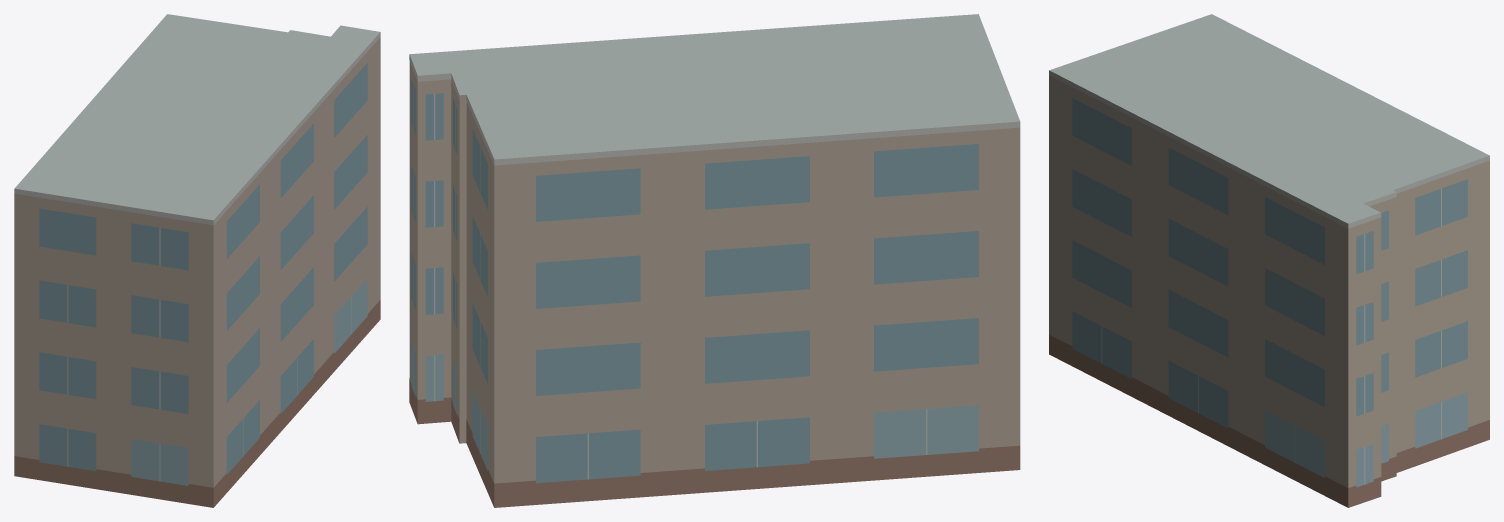
File: survey-upis-32746227.glb
3 views of the same model, side by side, from view 1: azimuth 30°, elevation 25°; view 2: azimuth 150°, elevation 25°; view 3: azimuth 270°, elevation 25° (orthographic). The views are drawn at different scales.
Parts seen in each view (by area): view 1: survey-upis-32746227.tmp; view 2: survey-upis-32746227.tmp; view 3: survey-upis-32746227.tmp.
Boxes of the visible parts, <box> form: survey-upis-32746227.tmp: <box>14,14,380,507</box>; survey-upis-32746227.tmp: <box>409,14,1020,507</box>; survey-upis-32746227.tmp: <box>1049,14,1489,507</box>.
Bounding box in the file's own units: 22.34 × 14.1 × 19.83.
